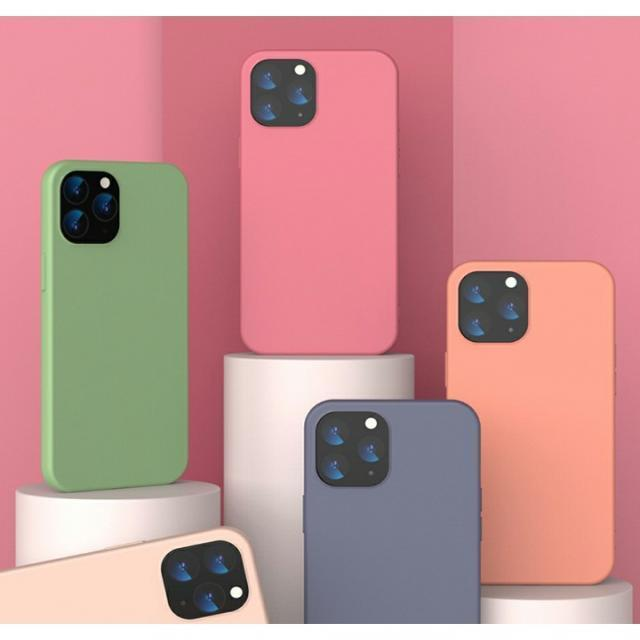phone: (238, 49, 400, 354), (43, 162, 189, 491)
